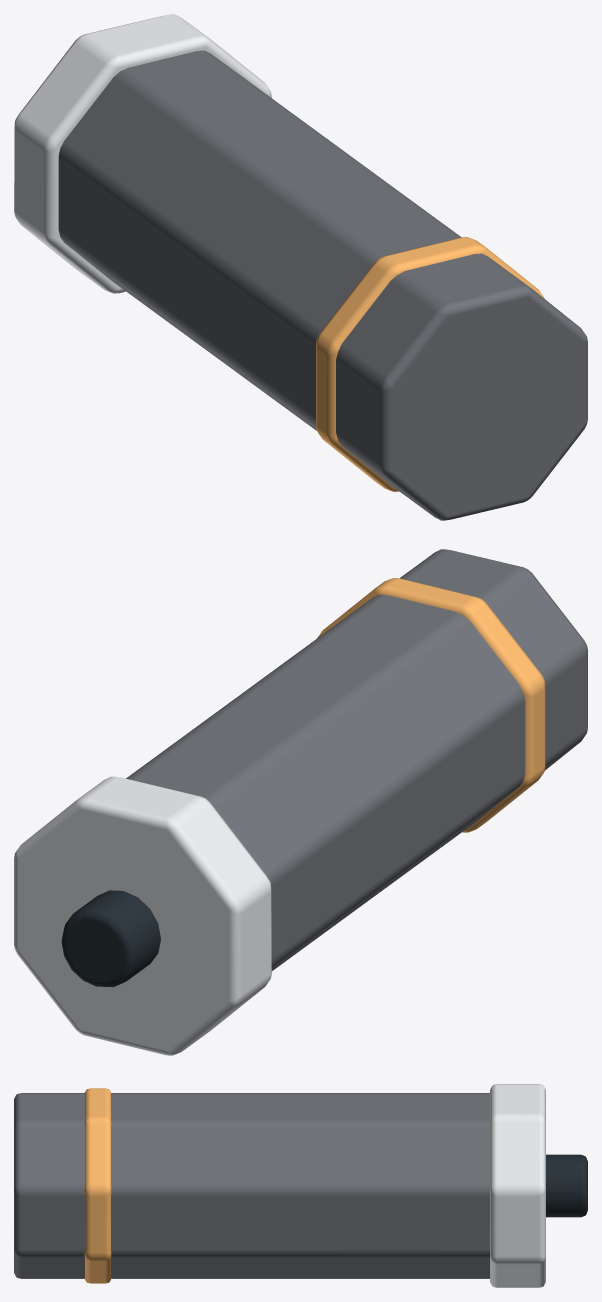
Rendered from att_muzzle_long.glb.
The picture shows the model from 3 angles, top to bottom: view 1: azimuth 30°, elevation 25°; view 2: azimuth 150°, elevation 25°; view 3: azimuth 270°, elevation 25°; orthographic projection. The views are drawn at different scales.
Parts seen in each view (by area): view 1: MuzzleLong; view 2: MuzzleLong; view 3: MuzzleLong.
Boxes of the visible parts, box(x1,y1,x2,y2) form: MuzzleLong: box(14, 14, 587, 520); MuzzleLong: box(14, 549, 587, 1055); MuzzleLong: box(14, 1084, 587, 1287).
Bounding box in the file's own units: 0.0273 × 0.0273 × 0.082.
